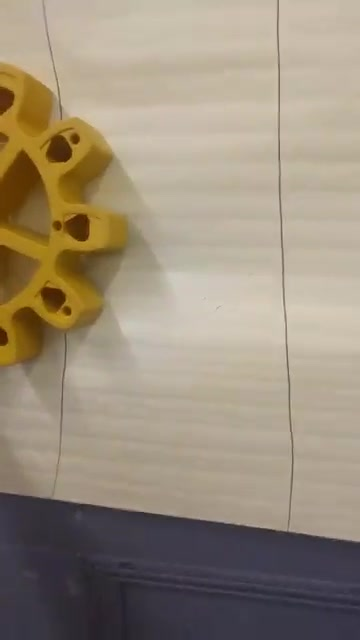gear: (1, 70, 111, 371)
